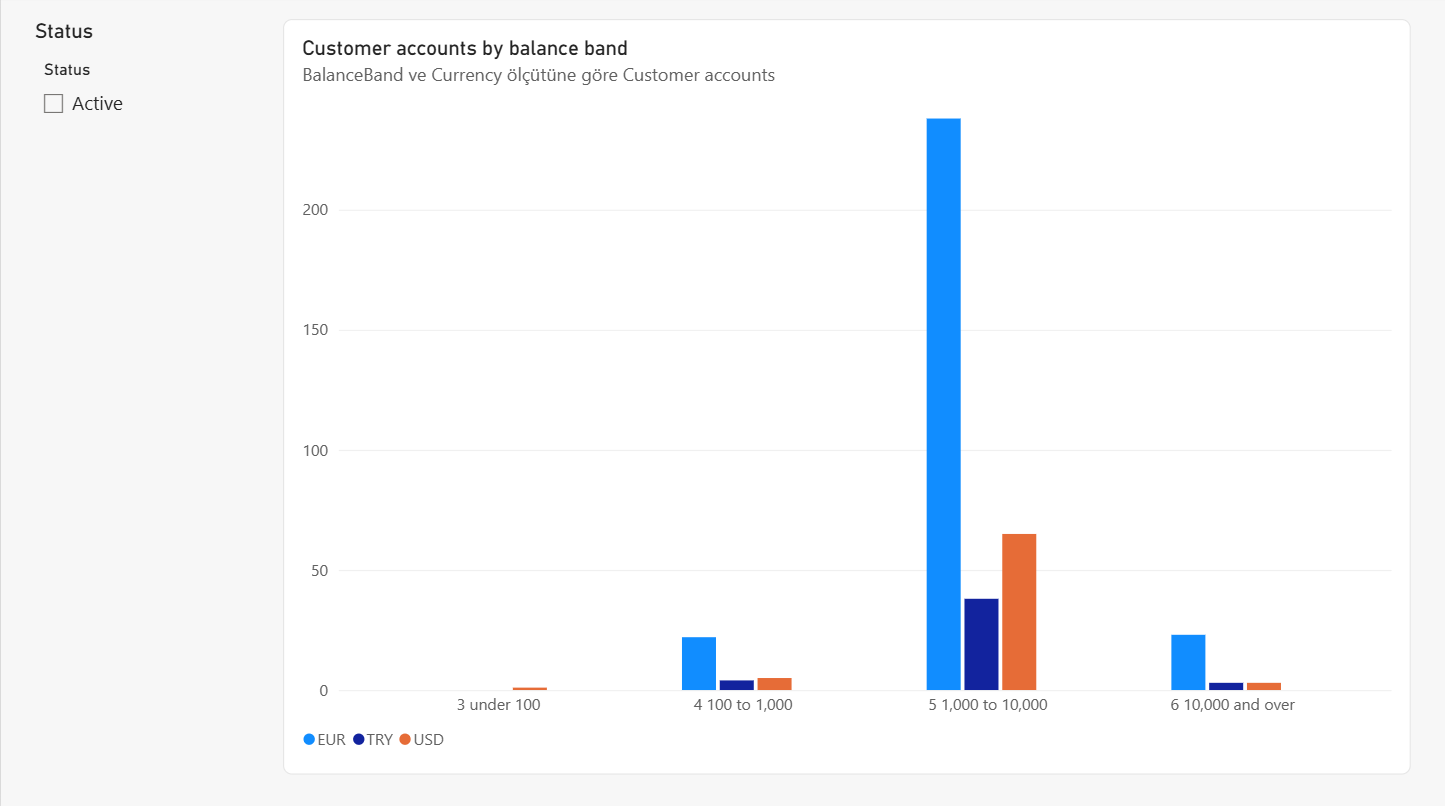

This screenshot's page, from the dashboard's own definition file:
{"tool":"powerbi","page":{"name":"Balance distribution","canvas":[1280,720],"ordinal":1},"visuals":[{"type":"slicer","title":"Status","fields":{"Values":["vw_AccountBalance.Status"]},"box":[30,20,200,260],"z":0},{"type":"clusteredColumnChart","title":"Customer accounts by balance band","fields":{"Category":["vw_AccountBalance.BalanceBand"],"Series":["vw_AccountBalance.Currency"],"Y":["vw_AccountBalance.Customer accounts"]},"box":[250,20,1000,670],"z":0}]}

Visuals, with their boxes on the page's 1280x720 design canvas (x1, y1, x2, y2). These are canvas units, not pixel positions in the 1445x806 screenshot, which may show the page scaled, cropped or inside an application window:
"Status" slicer: crop(30, 20, 230, 280)
"Customer accounts by balance band" clusteredColumnChart: crop(250, 20, 1250, 690)
